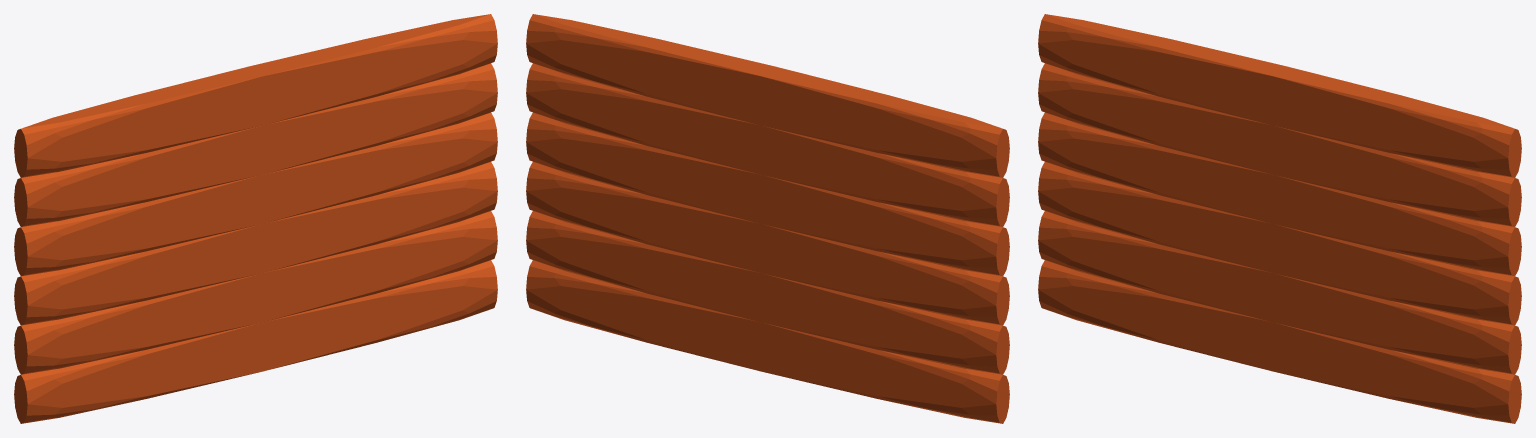
File: Wall.fbx
3 renders of one model, left to right at view 1: azimuth 30°, elevation 25°; view 2: azimuth 150°, elevation 25°; view 3: azimuth 330°, elevation 25°, orthographic.
Visible parts, largest first — view 1: Cube.006, Cube.002, Cube.003, Cube.005, Cube.004, Cube.001; view 2: Cube.006, Cube.002, Cube.003, Cube.005, Cube.004, Cube.001; view 3: Cube.006, Cube.002, Cube.003, Cube.005, Cube.004, Cube.001.
Boxes of the visible parts, x1=… form: Cube.006: x1=14, y1=14, x2=497, y2=177; Cube.002: x1=14, y1=211, x2=497, y2=374; Cube.003: x1=14, y1=162, x2=497, y2=325; Cube.005: x1=14, y1=63, x2=497, y2=226; Cube.004: x1=14, y1=112, x2=497, y2=276; Cube.001: x1=14, y1=260, x2=497, y2=423; Cube.006: x1=526, y1=14, x2=1009, y2=177; Cube.002: x1=526, y1=211, x2=1009, y2=374; Cube.003: x1=526, y1=162, x2=1009, y2=325; Cube.005: x1=526, y1=63, x2=1009, y2=226; Cube.004: x1=526, y1=112, x2=1009, y2=276; Cube.001: x1=526, y1=260, x2=1009, y2=423; Cube.006: x1=1038, y1=14, x2=1521, y2=177; Cube.002: x1=1038, y1=211, x2=1521, y2=374; Cube.003: x1=1038, y1=162, x2=1521, y2=325; Cube.005: x1=1038, y1=63, x2=1521, y2=226; Cube.004: x1=1038, y1=112, x2=1521, y2=276; Cube.001: x1=1038, y1=260, x2=1521, y2=423.
Size of the model in its own units: 500 by 300 by 25.
